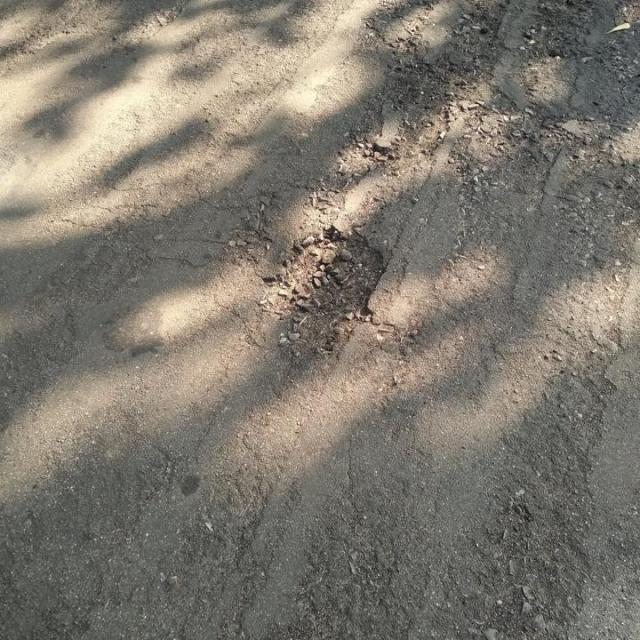pothole: (260, 230, 394, 352)
